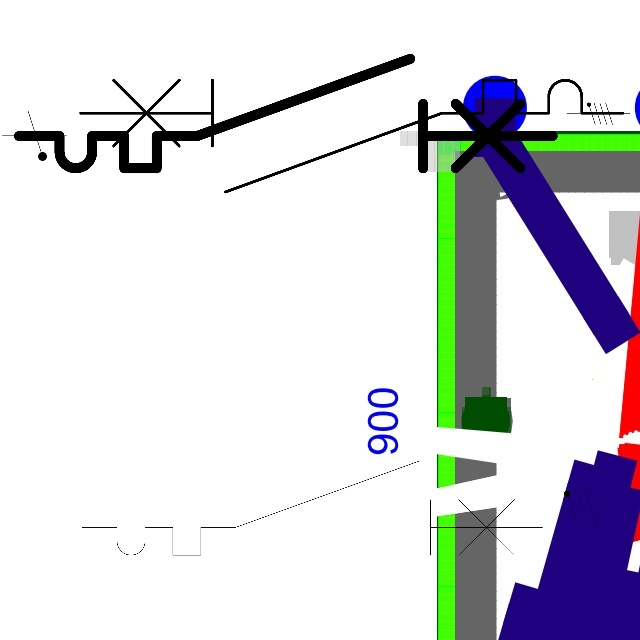interruptor_termomagnetico: (66, 66, 636, 205), (5, 45, 566, 182), (70, 449, 554, 567)
